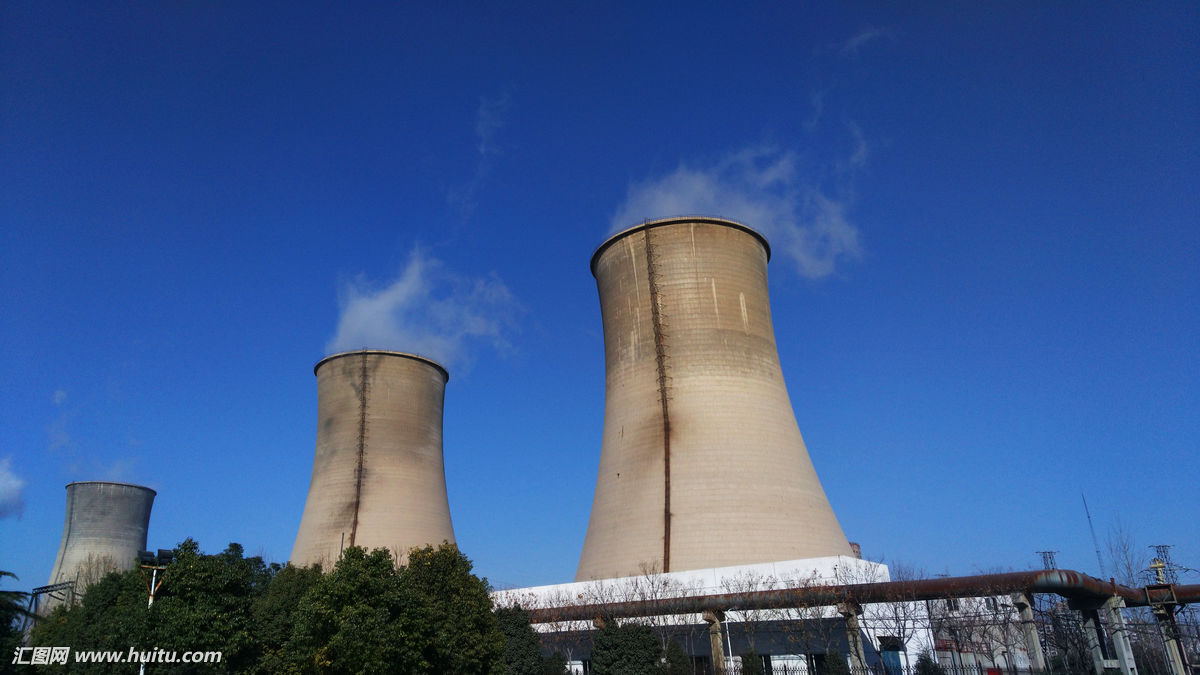dust: (322, 284, 485, 378)
